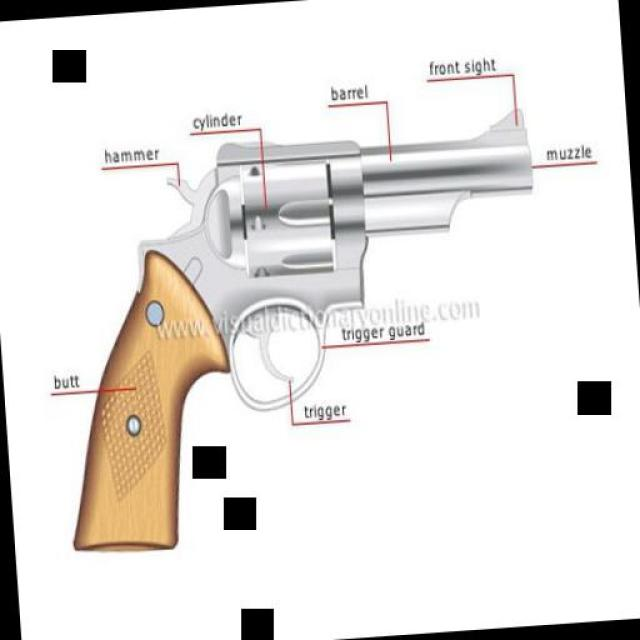gun: (42, 104, 556, 554)
